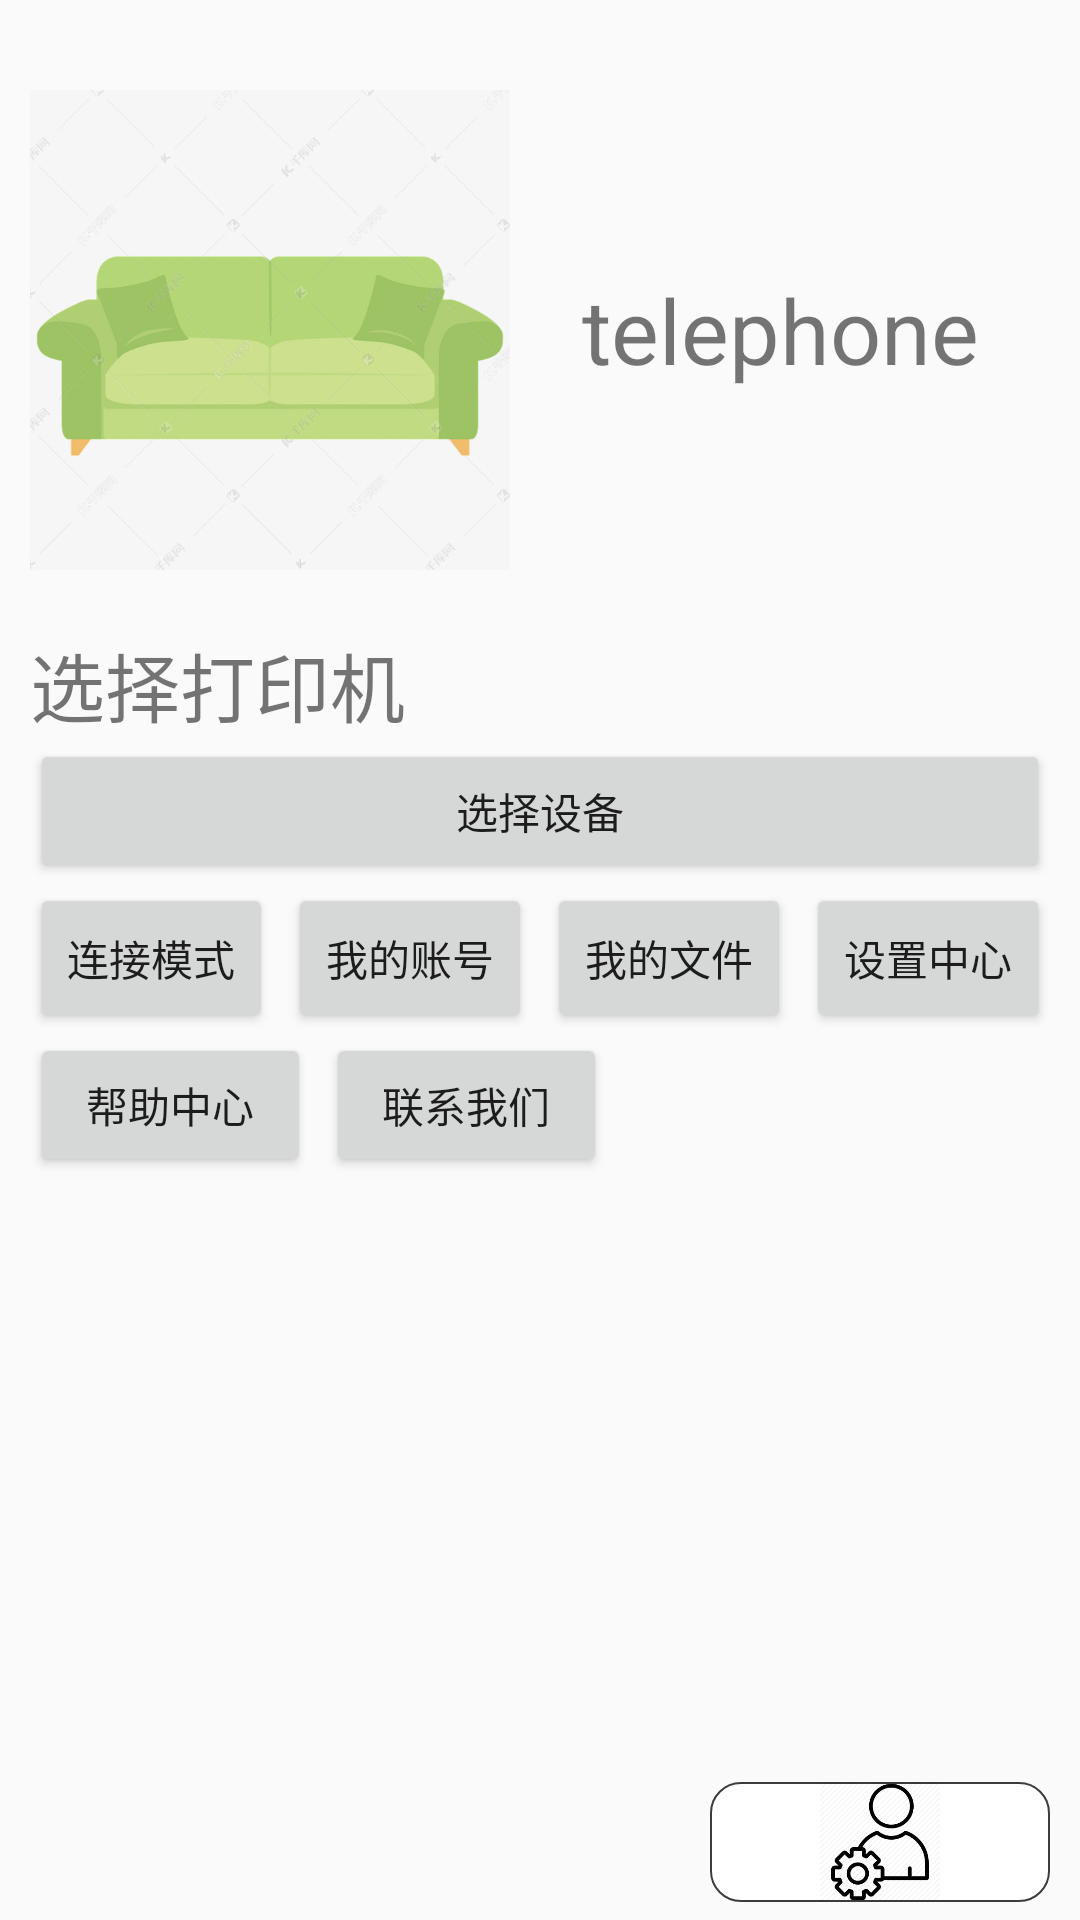

Point at icon controls on the screen. Image size 1080x1920, points as [x,y].
personal: [880,1842]
